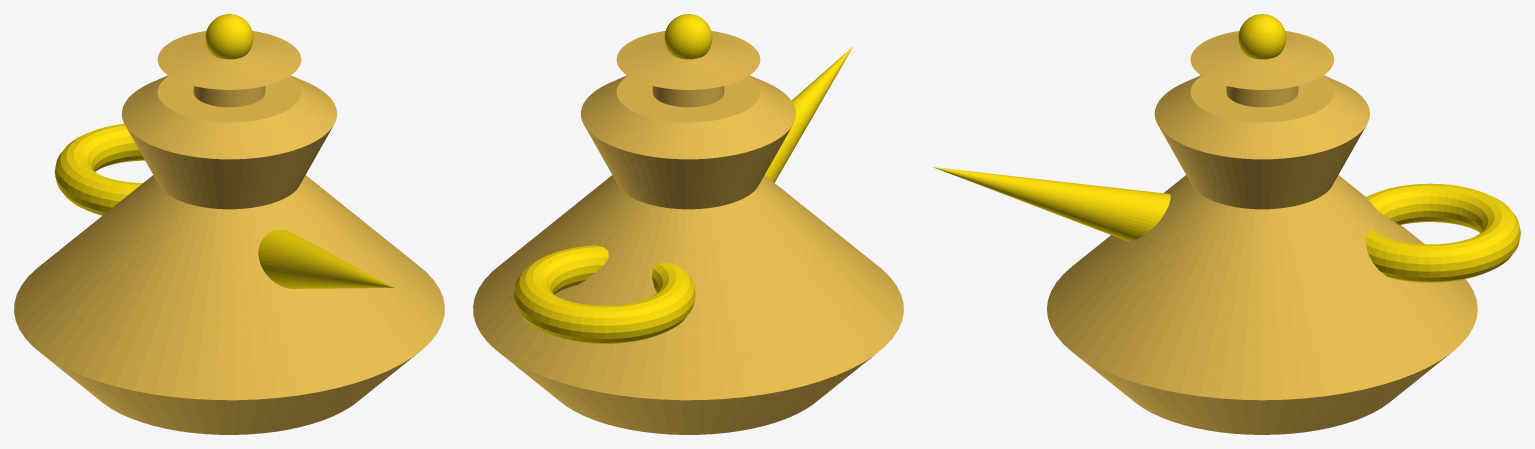
The picture shows the model from 3 angles, left to right: view 1: azimuth 30°, elevation 25°; view 2: azimuth 150°, elevation 25°; view 3: azimuth 270°, elevation 25°; orthographic projection.
Visible parts, largest first — view 1: part_4, part_2, part_3, part_1; view 2: part_4, part_2, part_3, part_1; view 3: part_4, part_2, part_3, part_1.
Part boxes in pixels (x1,y1,x2,y2): part_4: [14, 31, 444, 434]; part_2: [54, 123, 144, 215]; part_3: [258, 230, 394, 288]; part_1: [205, 14, 253, 59]; part_4: [473, 31, 903, 434]; part_2: [513, 245, 695, 343]; part_3: [765, 47, 852, 182]; part_1: [664, 14, 712, 59]; part_4: [1047, 31, 1477, 434]; part_2: [1366, 183, 1520, 282]; part_3: [933, 167, 1170, 241]; part_1: [1238, 14, 1286, 59].
Size of the model in its own units: 0.7318 by 0.6709 by 1.
Materials: 2 (2 with a texture image).
